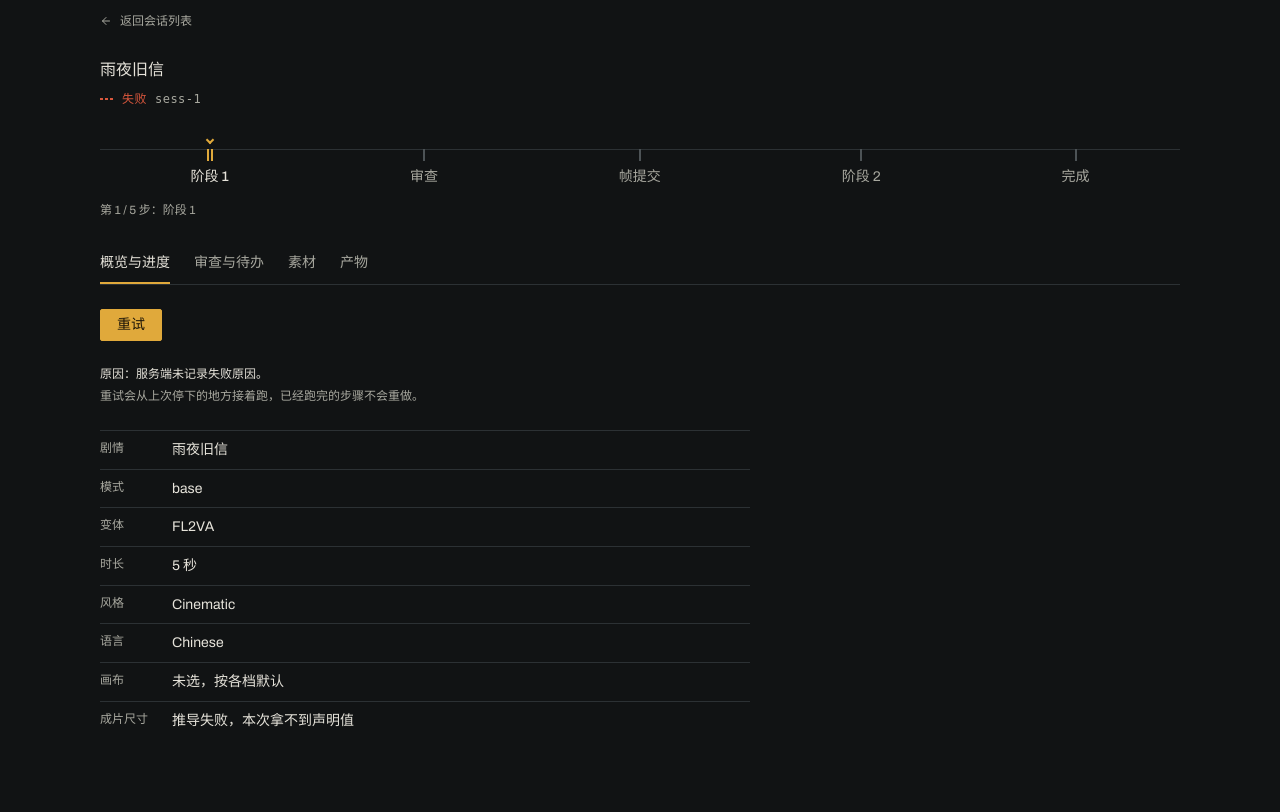
Test case: SessionDetailView 运行控制（spec §6.3） › 失败/取消/中断的会话显示「重试」，点击即再 POST /jobs 并回到运行态
Click the button "重试" at coordinates (131, 325), box x1=100 y1=309 x2=162 y2=341
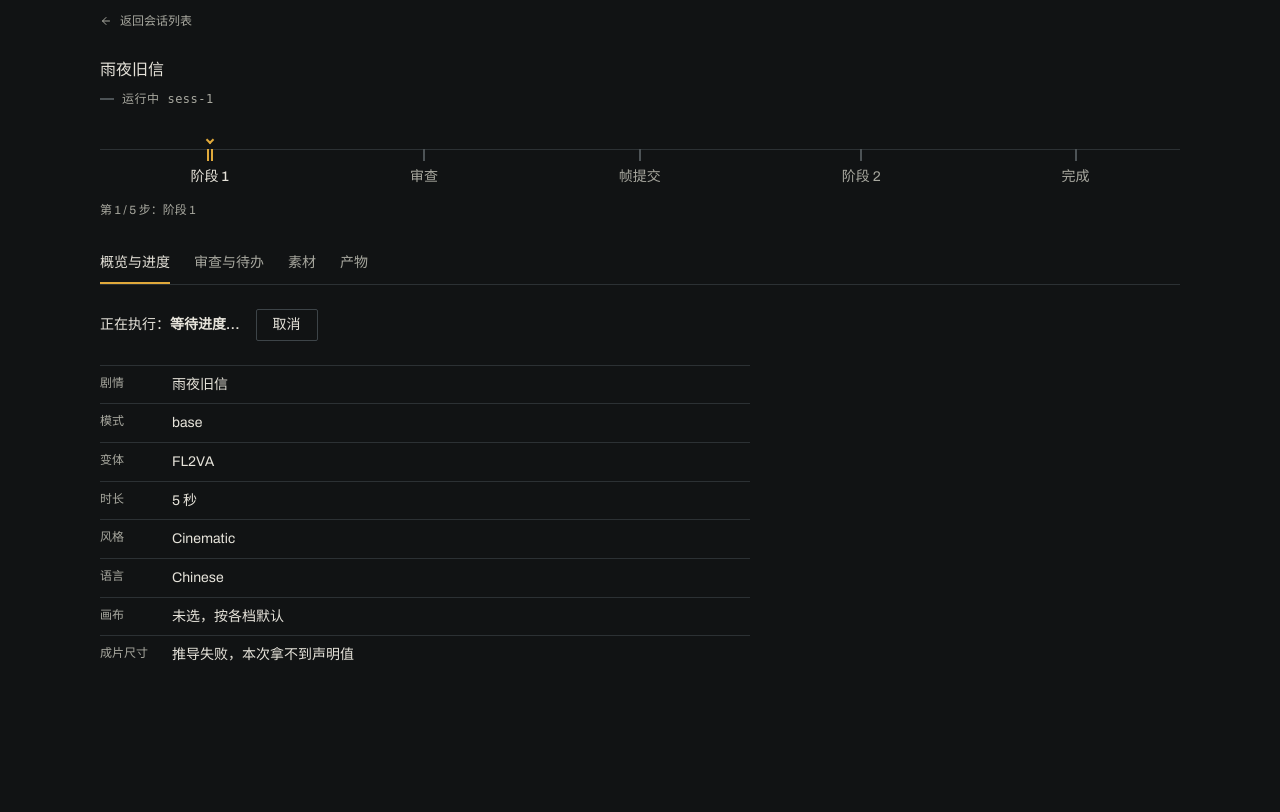
Now the text "运行中" is shown, box x1=122 y1=90 x2=160 y2=109
